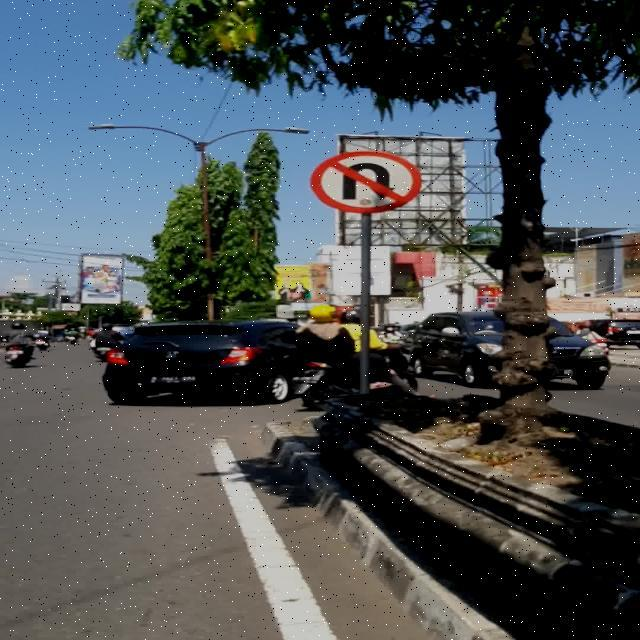Dilarang Putar Balik: (310, 150, 420, 213)
